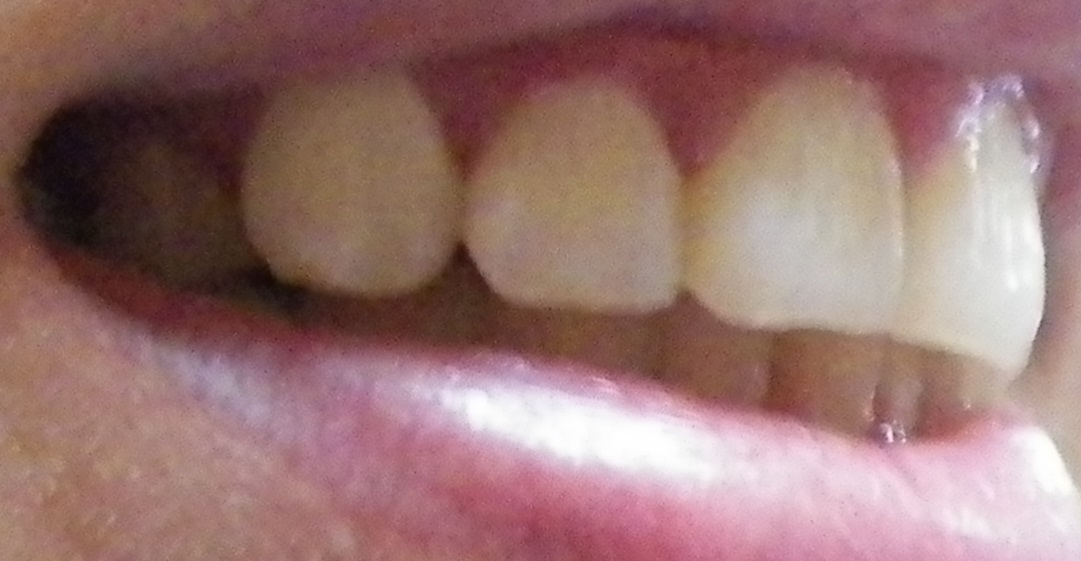boca: (90, 64, 1041, 417)
